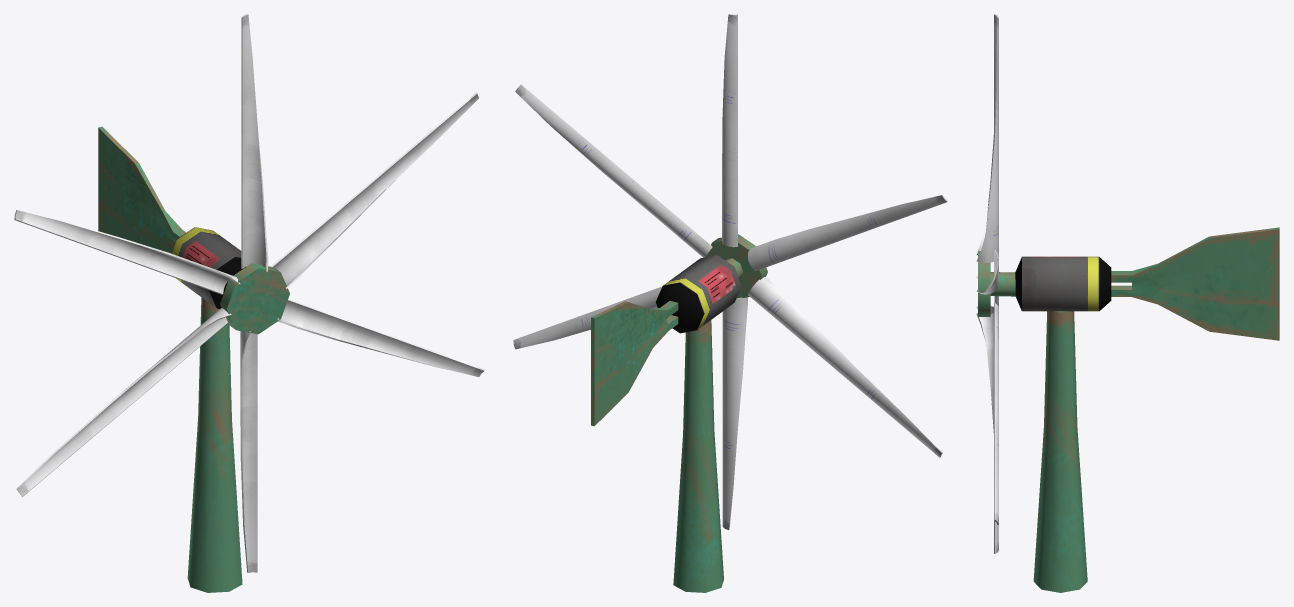
Rendered from wind_generator.glb.
3 renders of one model, left to right at view 1: azimuth 30°, elevation 25°; view 2: azimuth 150°, elevation 25°; view 3: azimuth 270°, elevation 25°, orthographic. The views are drawn at different scales.
Visible parts, largest first — view 1: gen_propellers, generator, gen_motor; view 2: gen_propellers, gen_motor, generator; view 3: gen_motor, generator, gen_propellers.
Boxes of the visible parts, x1=… form: gen_propellers: x1=14, y1=14, x2=484, y2=572; generator: x1=187, y1=297, x2=242, y2=592; gen_motor: x1=98, y1=126, x2=245, y2=308; gen_propellers: x1=513, y1=14, x2=947, y2=530; gen_motor: x1=591, y1=255, x2=741, y2=426; generator: x1=673, y1=320, x2=723, y2=592; gen_motor: x1=1015, y1=227, x2=1279, y2=340; generator: x1=1033, y1=311, x2=1087, y2=592; gen_propellers: x1=976, y1=14, x2=1015, y2=553.
Size of the model in its own units: 3.92 by 4.71 by 2.29.
Materials: 1 (1 with a texture image).
